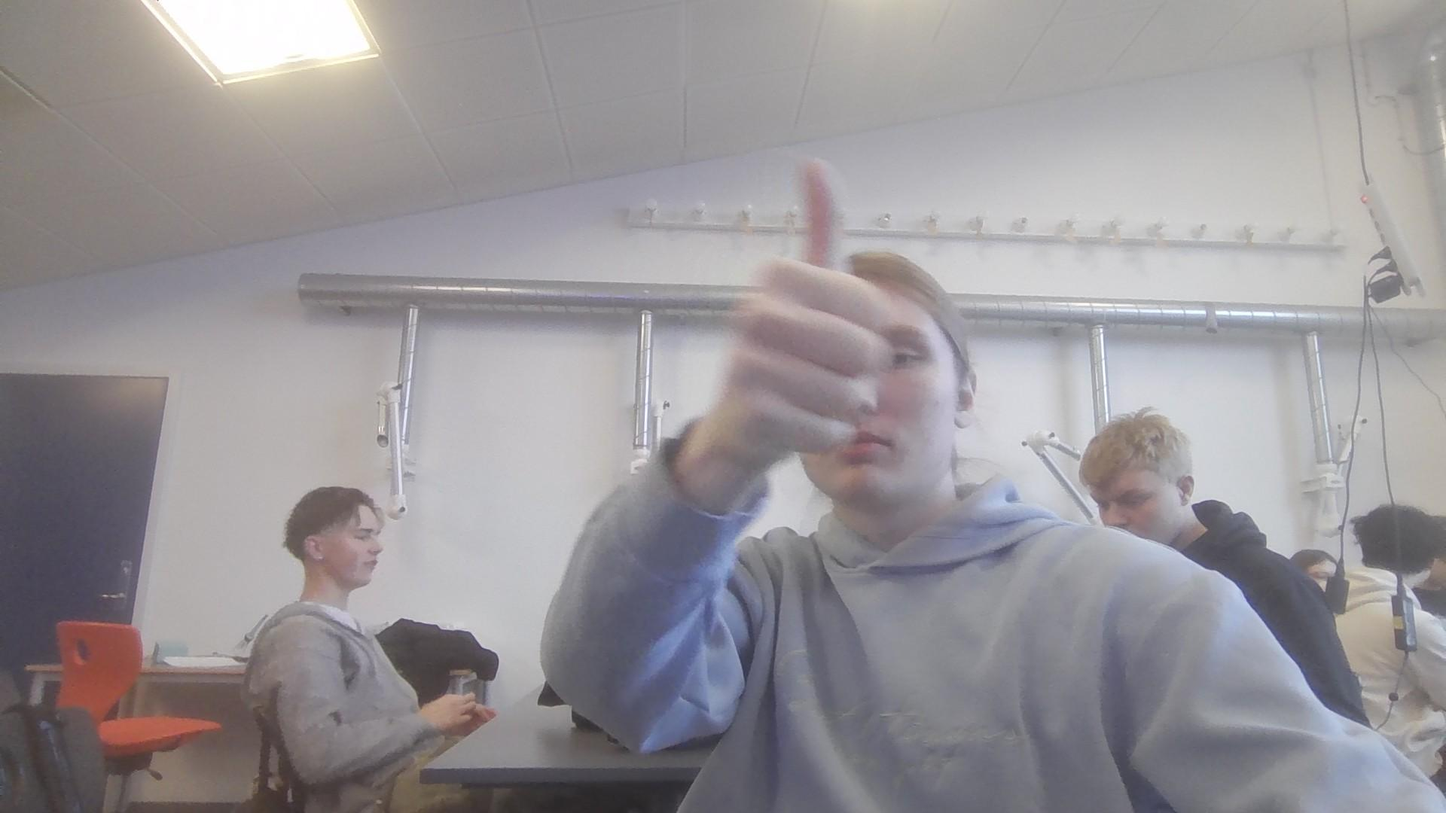thumbs up: (698, 157, 908, 471)
